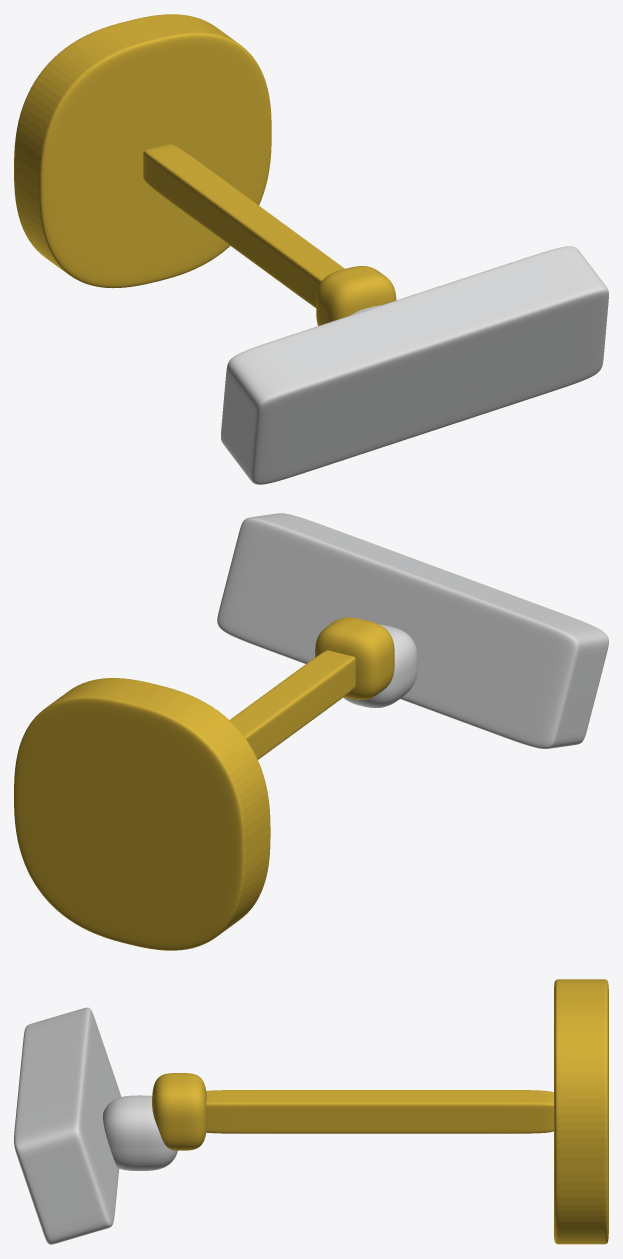
Rendered from lamp_wrong_shade_sq.glb.
3 views of the same model, one above another, from view 1: azimuth 30°, elevation 25°; view 2: azimuth 150°, elevation 25°; view 3: azimuth 270°, elevation 25° (orthographic). The views are drawn at different scales.
Parts seen in each view (by area): view 1: superquadric_3, superquadric_0, superquadric_1, superquadric_2; view 2: superquadric_0, superquadric_3, superquadric_1, superquadric_2, superquadric_4; view 3: superquadric_3, superquadric_1, superquadric_0, superquadric_4, superquadric_2.
Part boxes in pixels (left/top/right/bottom): superquadric_3: left=221, top=246, right=608, bottom=484; superquadric_0: left=14, top=14, right=271, bottom=288; superquadric_1: left=143, top=144, right=344, bottom=307; superquadric_2: left=316, top=266, right=396, bottom=325; superquadric_0: left=14, top=678, right=270, bottom=950; superquadric_3: left=217, top=513, right=608, bottom=748; superquadric_1: left=229, top=650, right=355, bottom=759; superquadric_2: left=315, top=617, right=394, bottom=699; superquadric_4: left=343, top=624, right=417, bottom=708; superquadric_3: left=14, top=1007, right=121, bottom=1244; superquadric_1: left=206, top=1090, right=553, bottom=1133; superquadric_0: left=554, top=979, right=608, bottom=1244; superquadric_4: left=103, top=1095, right=177, bottom=1170; superquadric_2: left=152, top=1073, right=206, bottom=1150.
Bounding box in the file's own units: 0.6471 × 0.4238 × 1.
